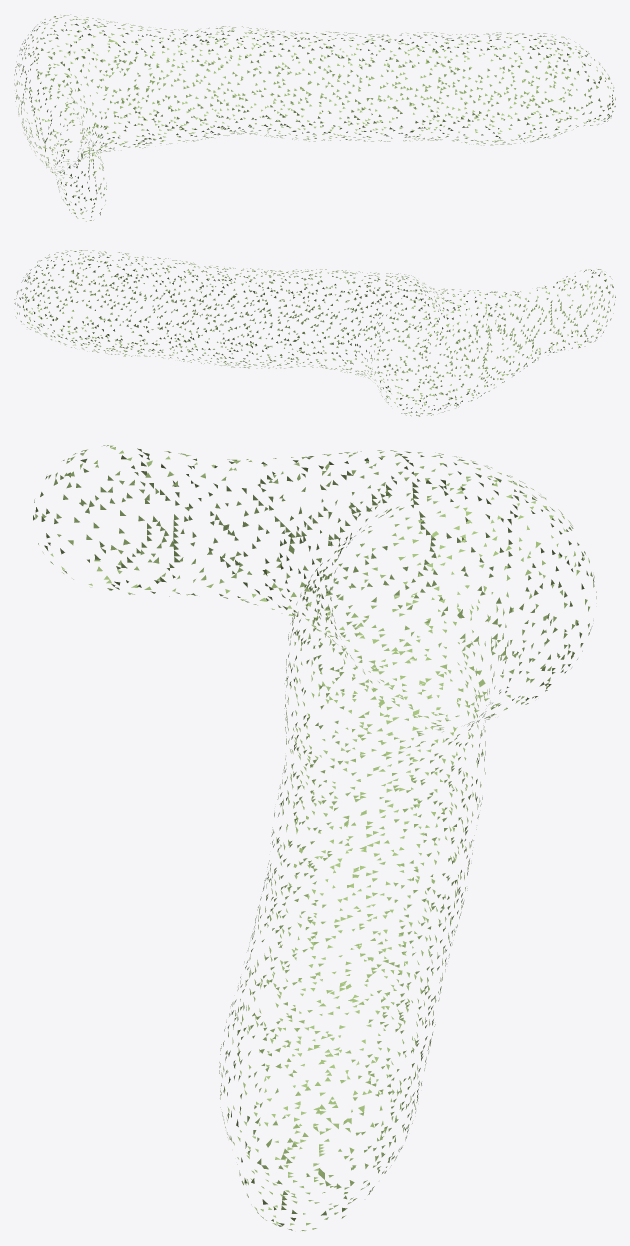
Rendered from morph_012.glb.
3 renders of one model, top to bottom at view 1: azimuth 30°, elevation 25°; view 2: azimuth 150°, elevation 25°; view 3: azimuth 270°, elevation 25°, orthographic. The views are drawn at different scales.
Bounding box in the file's own units: 139 × 42.21 × 63.74.
